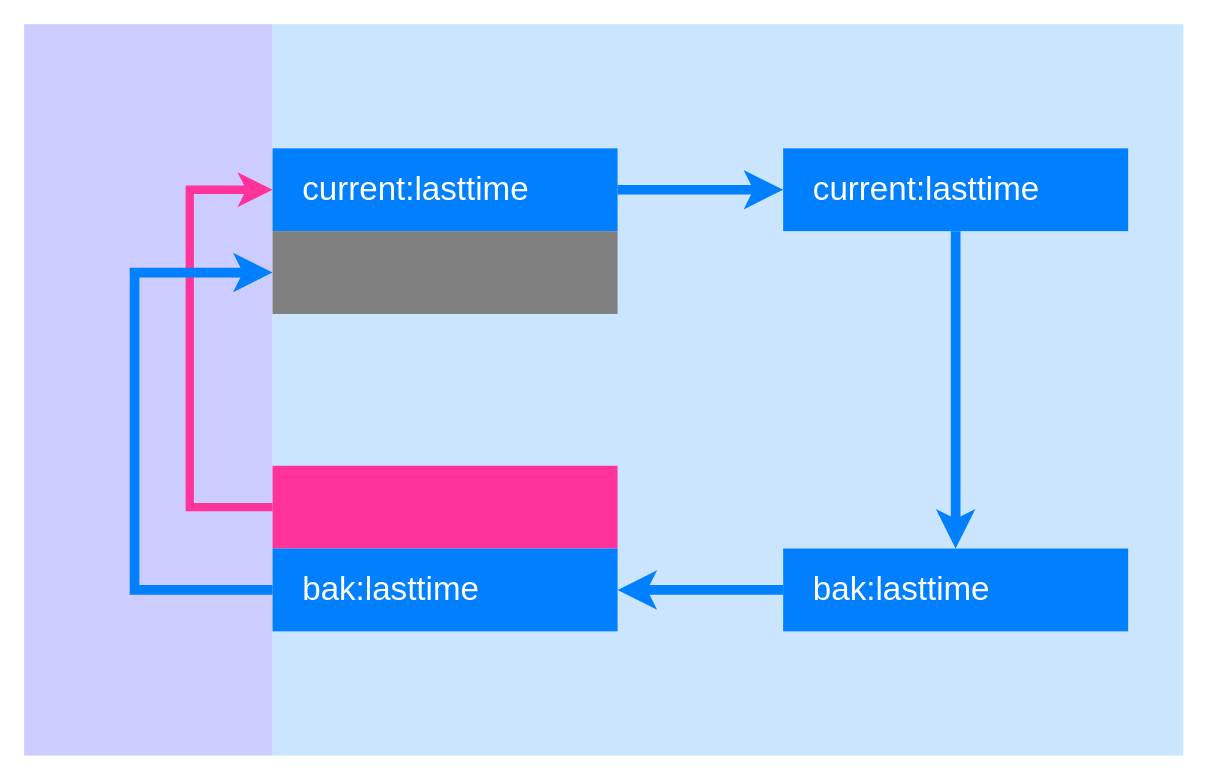
Some shapes in this 1206 by 778 pixel diagram are drawn without their labels. Each missing label, with the centre of its shape:
"bak:timebeforelast" belongs at (444,271).
"current:thistime" belongs at (444,506).
